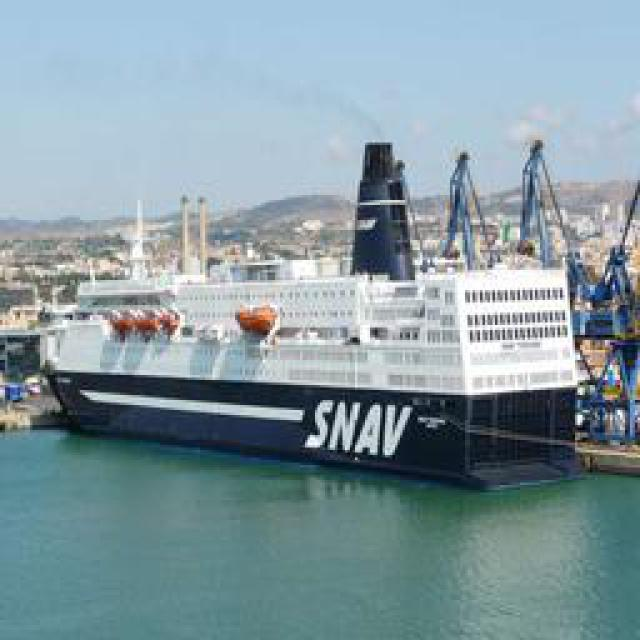Ship: (44, 142, 609, 480)
